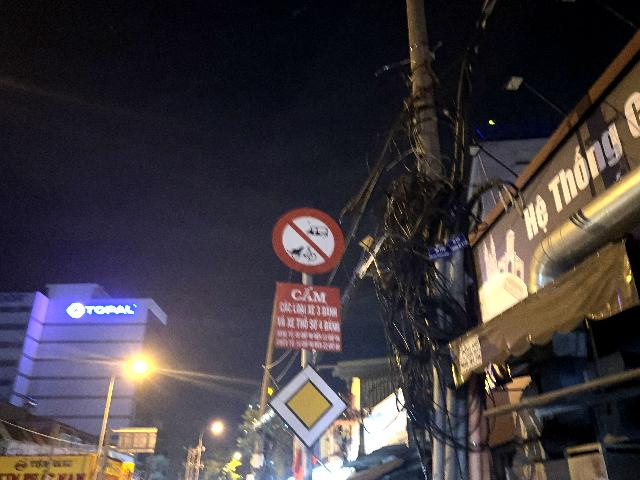bat-dau-duong-uu-tien: (266, 362, 350, 451)
cam-xe-3-banh-xe-tho-so-4-banh: (272, 207, 344, 275)
